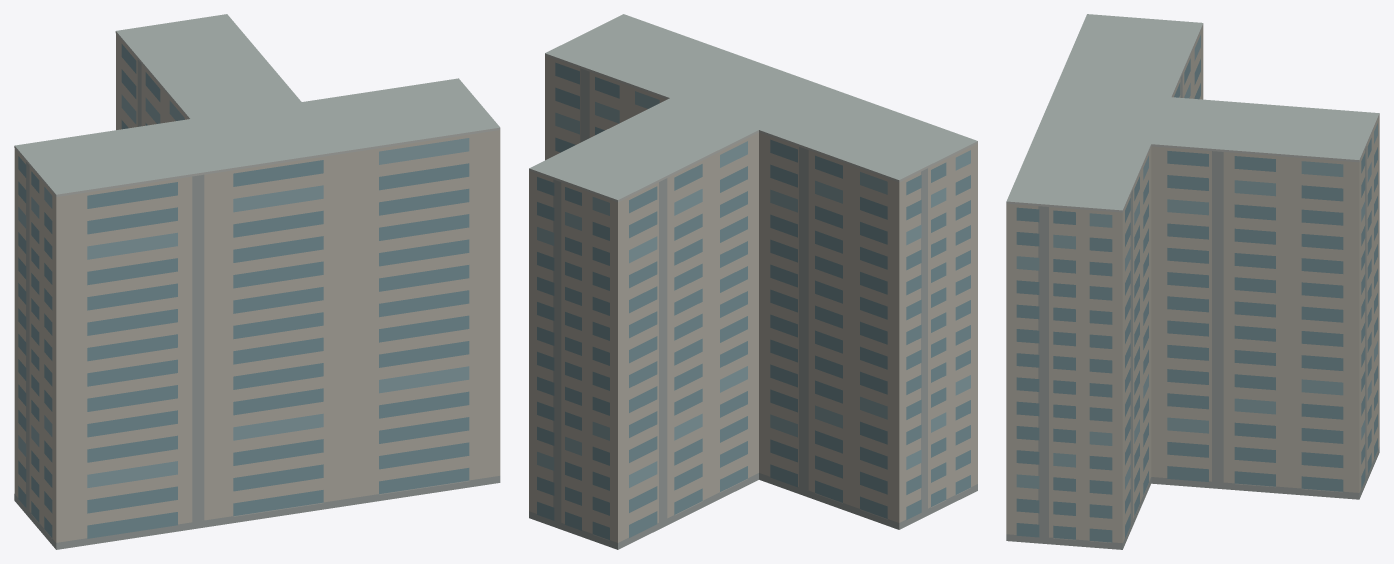
The model's file is residential-2ec47ca4-4e31-4e45-8d06-159fd0932320.glb.
The picture shows the model from 3 angles, left to right: view 1: azimuth 30°, elevation 25°; view 2: azimuth 150°, elevation 25°; view 3: azimuth 270°, elevation 25°; orthographic projection. The views are drawn at different scales.
Parts seen in each view (by area): view 1: residential-2ec47ca4-4e31-4e45-8d06-159fd0932320.tmp; view 2: residential-2ec47ca4-4e31-4e45-8d06-159fd0932320.tmp; view 3: residential-2ec47ca4-4e31-4e45-8d06-159fd0932320.tmp.
Part boxes in pixels (<box>): residential-2ec47ca4-4e31-4e45-8d06-159fd0932320.tmp: <box>14,14,500,549</box>; residential-2ec47ca4-4e31-4e45-8d06-159fd0932320.tmp: <box>529,14,977,549</box>; residential-2ec47ca4-4e31-4e45-8d06-159fd0932320.tmp: <box>1006,14,1379,549</box>.
Bounding box in the file's own units: 45.92 × 37 × 36.87.
